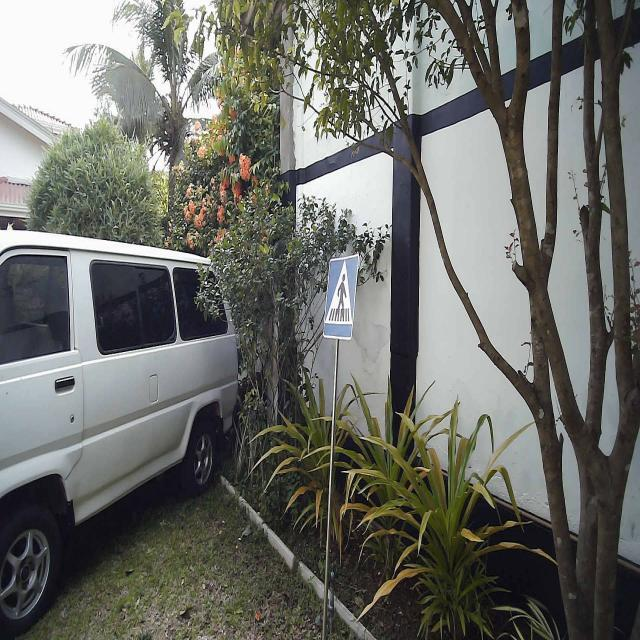crosswalk_sign: (322, 252, 362, 343)
